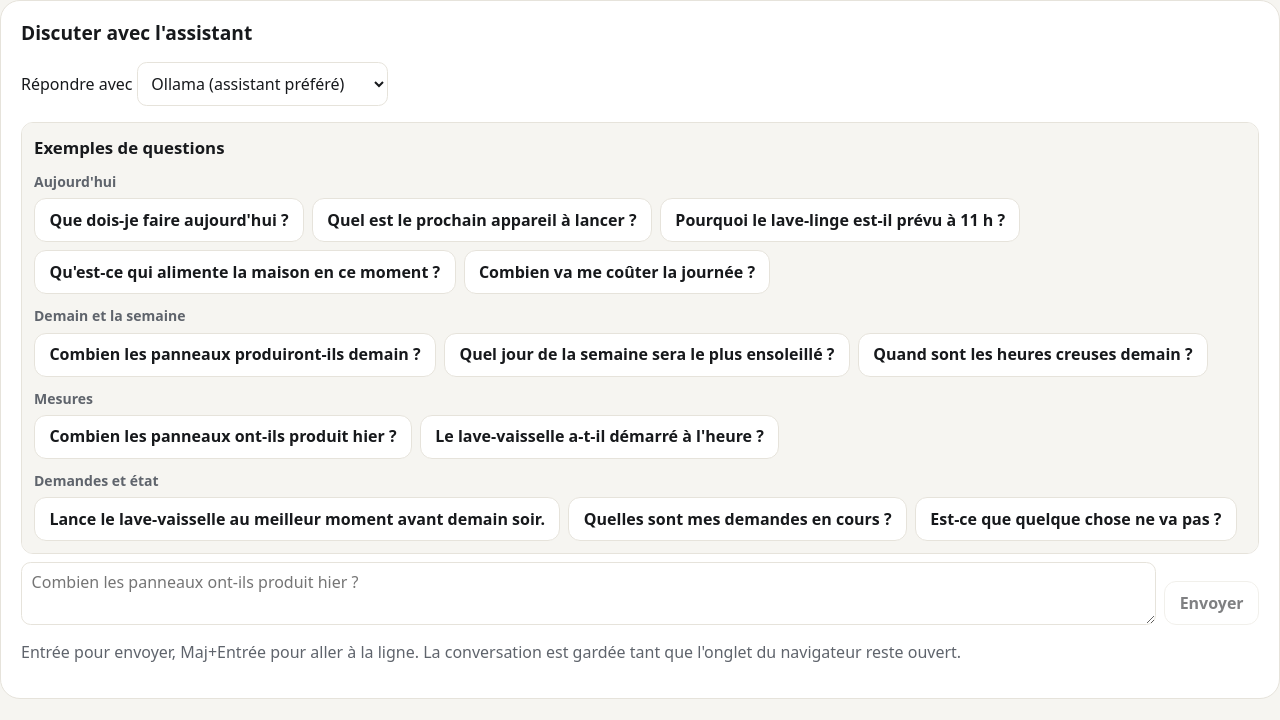
Test: discussion avec l'assistant › affiche le temps mis par une réponse à droite de celle-ci
(page scrolled)
Type "Pourquoi 11 h ?" into the text box named "Votre message".
click(589, 594); type("Pourquoi 11 h ?")  # box 21,562 -> 1156,625
Then press Enter
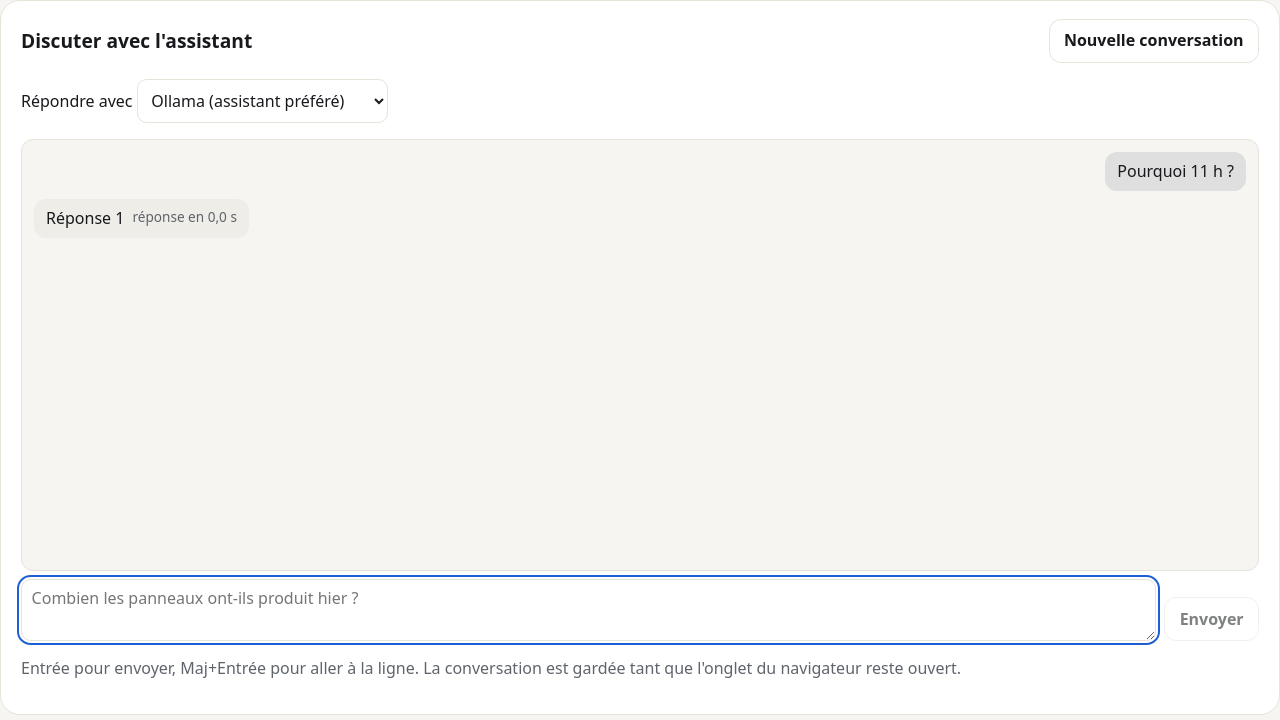
Now the text with class "assistant-chat-time" reads "réponse en 0,0 s", box 132,207 -> 237,226
